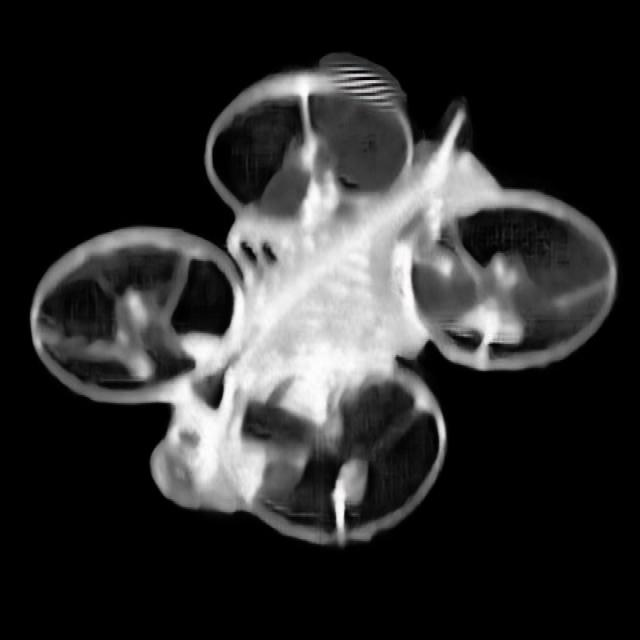drone: (19, 27, 627, 564)
